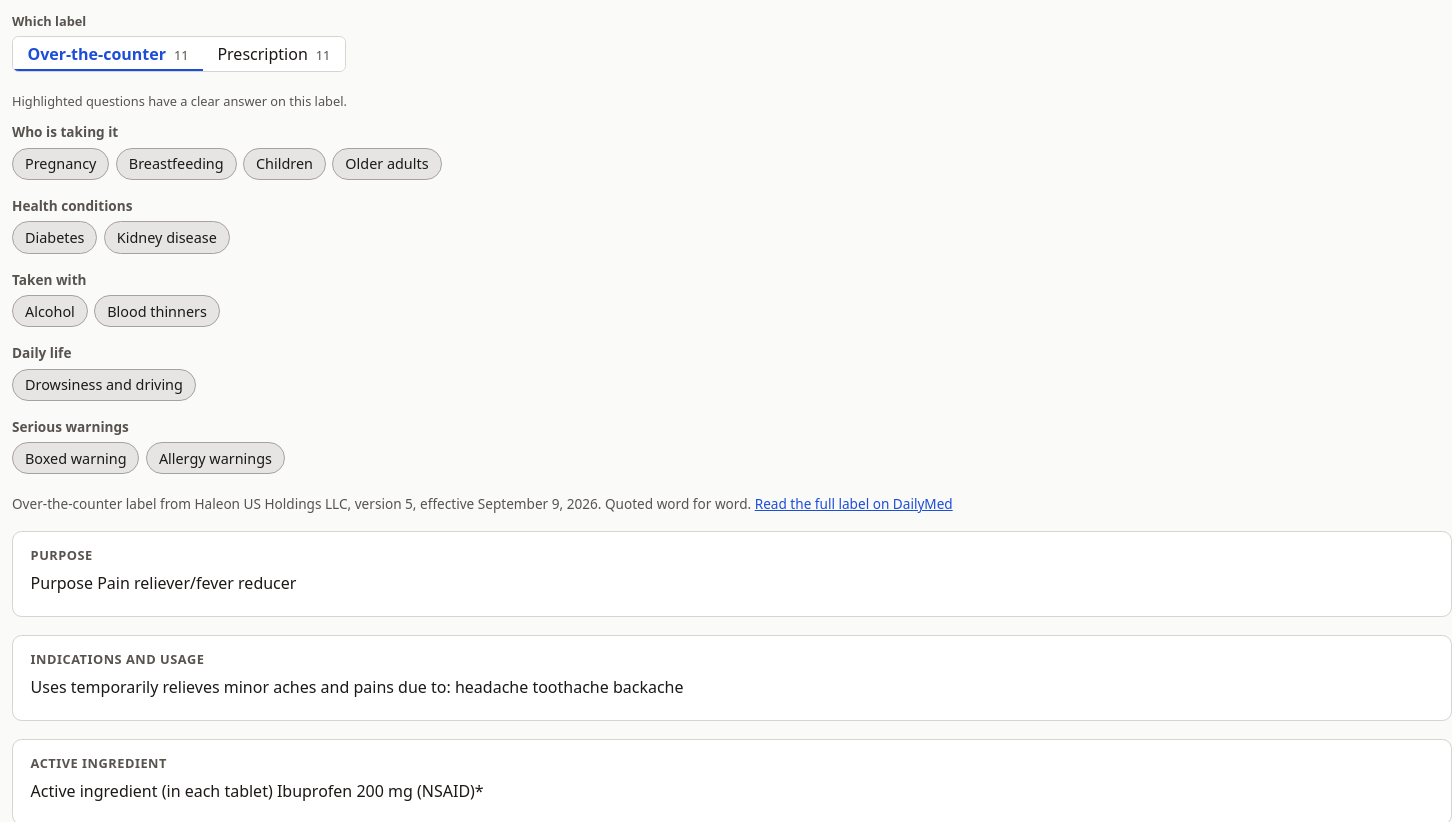
Test: DrugAnswers › switches between the OTC and prescription labels, keeping the question
This screenshot has width=1452, height=822.
Click the button "Pregnancy" at (61, 164), box [12,148,109,180]
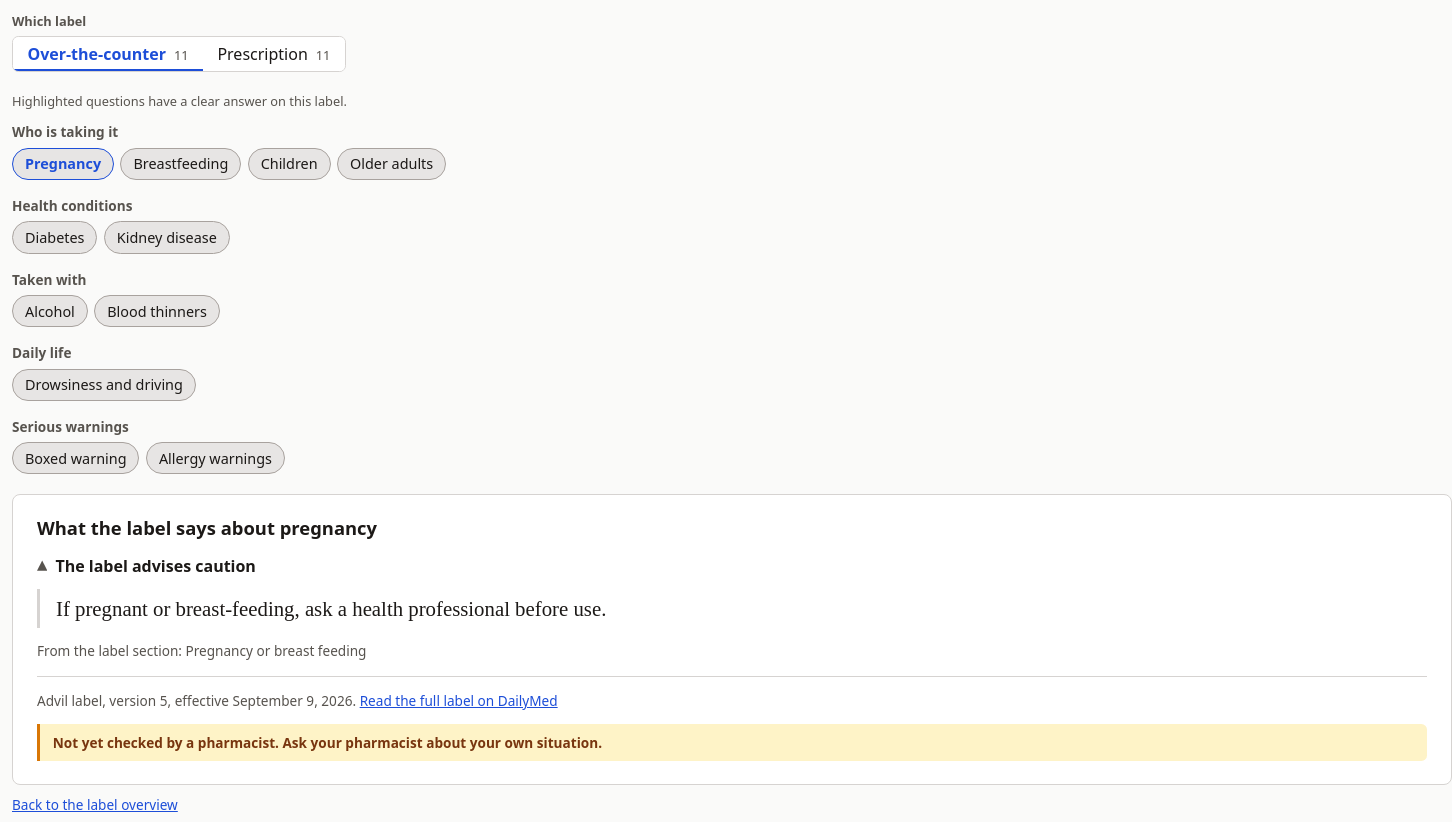
Click the button "Prescription11" at (274, 54), box [203,37,345,71]
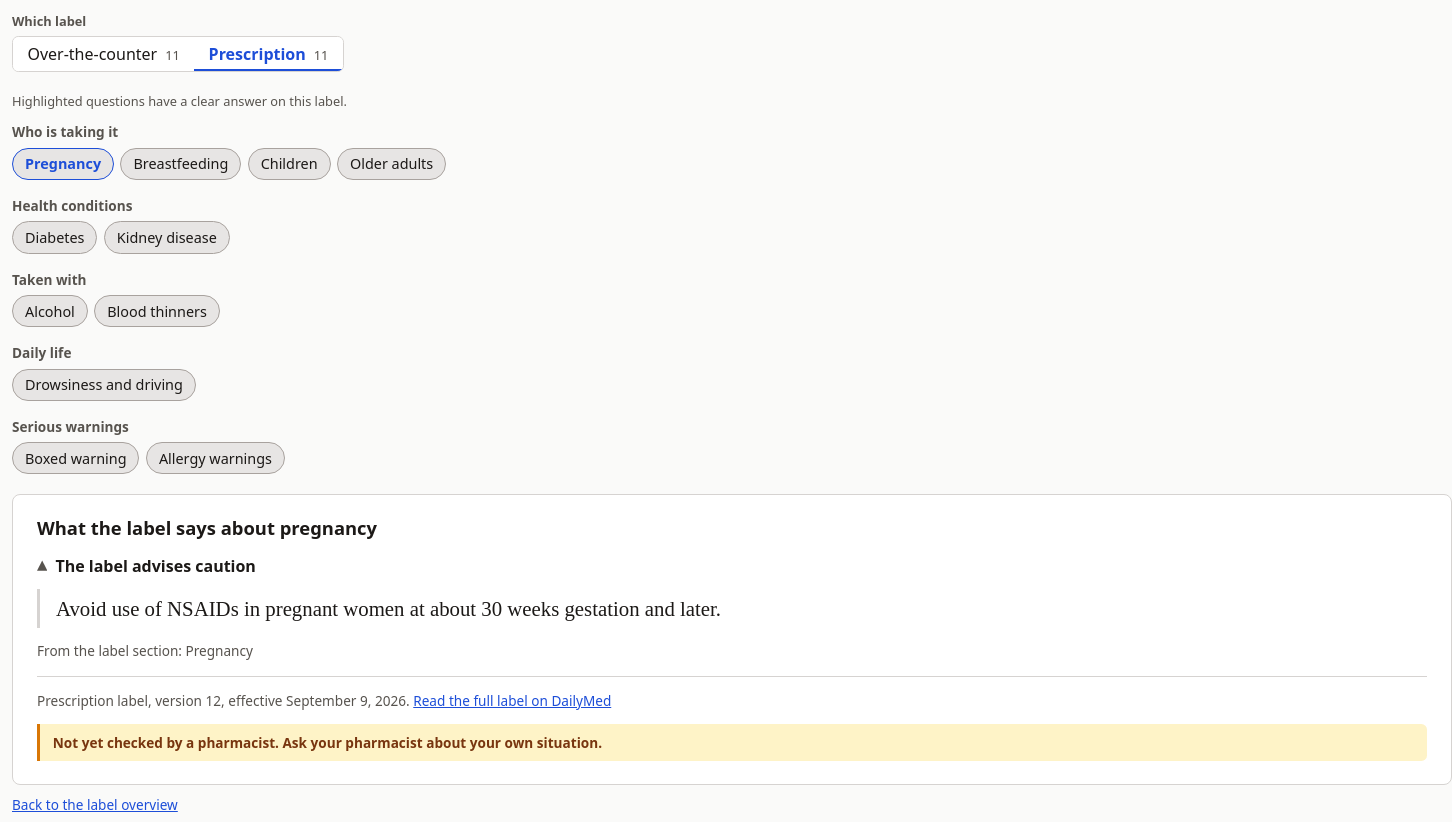
Result: the text "Avoid use of NSAIDs in pregnant women at about 30 weeks gestation and later." is shown at [37,589,1427,628]
Result: the text "Prescription label, version 12" is shown at [37,691,611,710]
